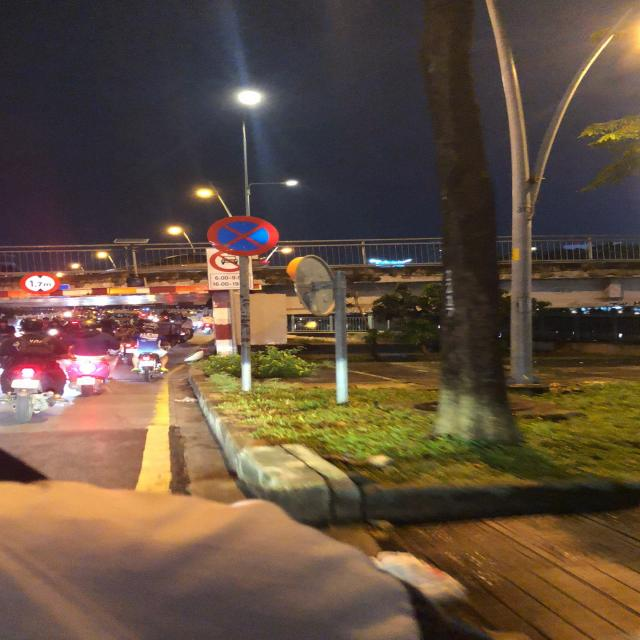Bien bao cam dung xe va do xe: (204, 213, 290, 255)
Bien bao han che chieu cao: (13, 272, 62, 294)
